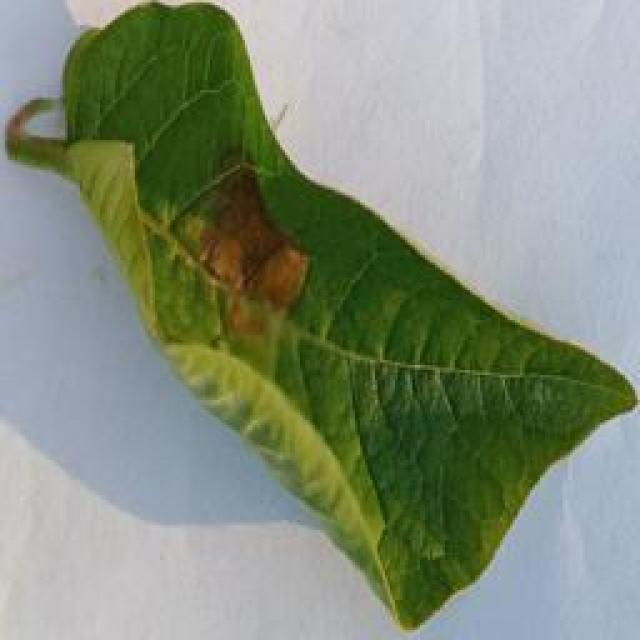Potato_Late_Blight: (37, 4, 640, 640)
